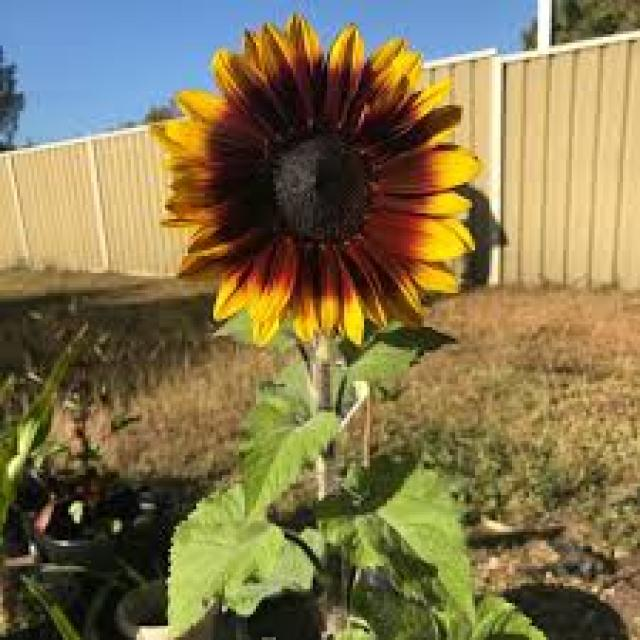sunflower: (144, 3, 490, 357)
